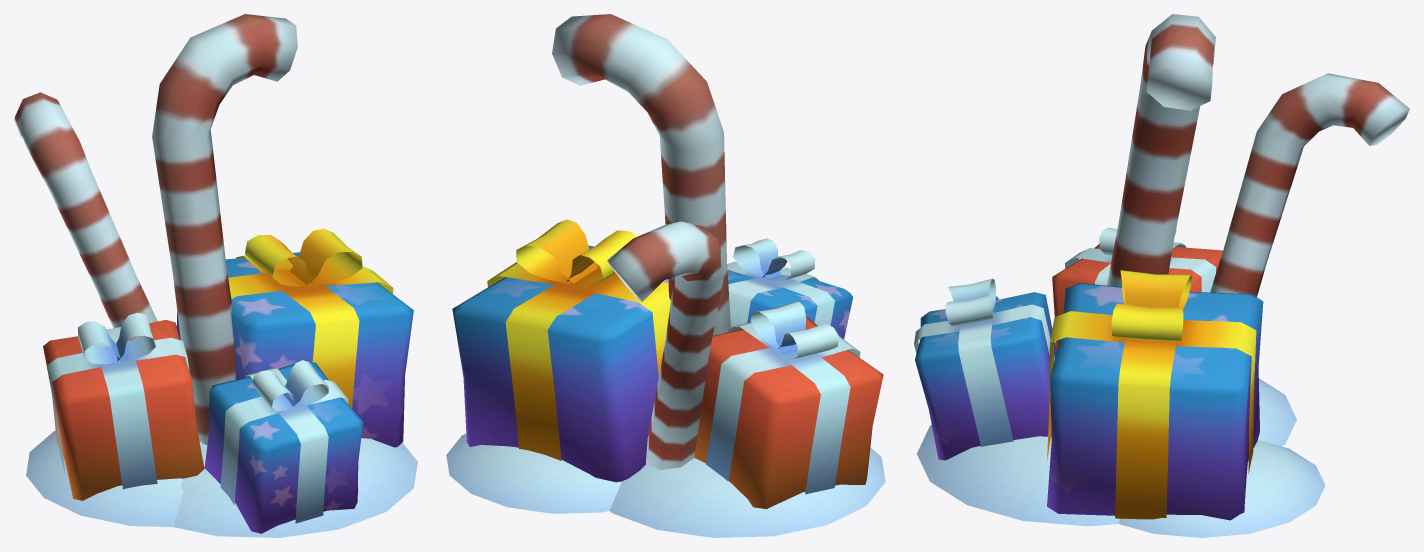
The model's file is FloorDecoXmas-004_02_13_0771.fbx.
3 views of the same model, side by side, from view 1: azimuth 30°, elevation 25°; view 2: azimuth 150°, elevation 25°; view 3: azimuth 270°, elevation 25° (orthographic). The views are drawn at different scales.
Parts seen in each view (by area): view 1: xmas_deco_01; view 2: xmas_deco_01; view 3: xmas_deco_01.
Boxes of the visible parts, x1,y1,x2,y2 form: xmas_deco_01: (14,14,417,537); xmas_deco_01: (446,14,885,537); xmas_deco_01: (914,14,1409,537).
Size of the model in its own units: 2.07 by 2.36 by 2.37.
